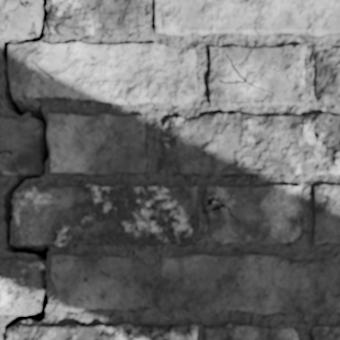brick: (9, 41, 197, 105), (11, 184, 197, 245), (157, 113, 339, 175), (158, 254, 339, 313), (155, 0, 339, 35), (209, 44, 305, 106), (48, 114, 145, 175), (203, 186, 303, 244), (51, 254, 146, 311), (49, 0, 144, 35), (5, 324, 167, 339), (0, 118, 40, 175), (0, 258, 39, 313), (314, 185, 339, 243), (0, 0, 37, 39), (206, 324, 297, 339), (315, 48, 339, 104), (161, 325, 190, 339), (312, 326, 339, 339), (190, 325, 196, 338)
crack: (0, 0, 50, 338), (203, 195, 239, 223), (313, 114, 335, 158), (284, 115, 307, 154), (4, 0, 30, 22), (154, 325, 172, 339), (186, 325, 195, 339)
